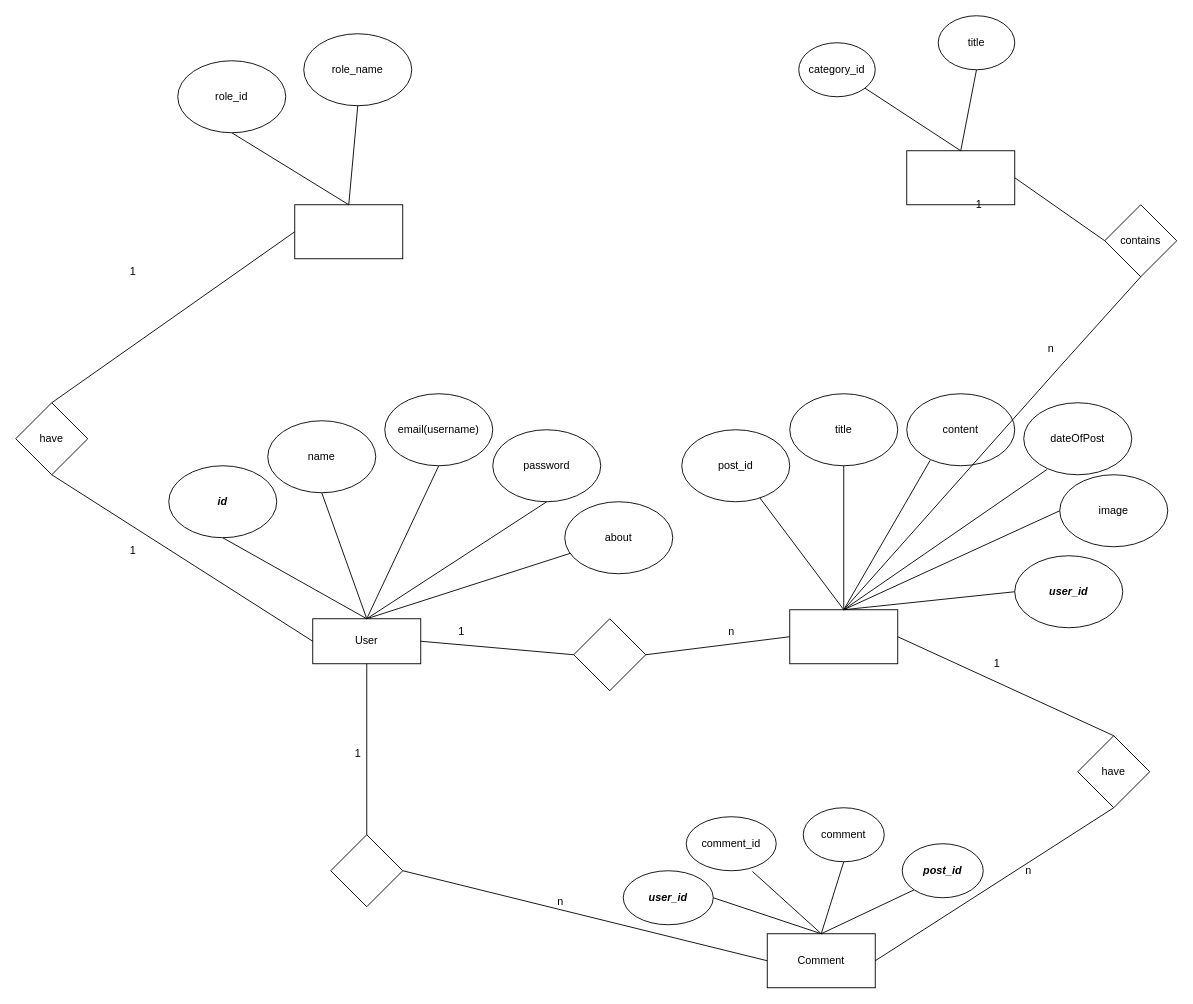
Image size: 1193x1004. Some labels were removed from this diagram. The shapes that lost their labels are listed below. From the top down, each one's box as (x1, y1, x2, y2) in pixels, then its label:
(906, 150, 1015, 205): Category
(294, 204, 403, 259): Role
(573, 618, 646, 691): can create
(789, 609, 898, 664): Post
(330, 834, 403, 907): has
